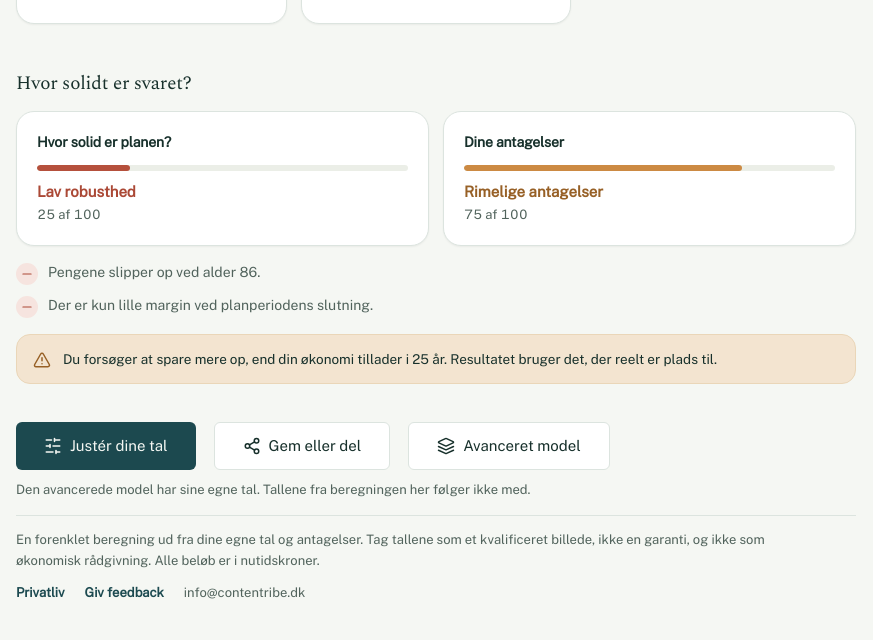
it: route-change focus management › /resultat -> /gem-og-del: focus lands on the SCREEN h1, not the print-summary h1
(page scrolled)
Click the link "Gem eller del" at (302, 446), box [214, 422, 390, 470]
(page scrolled)
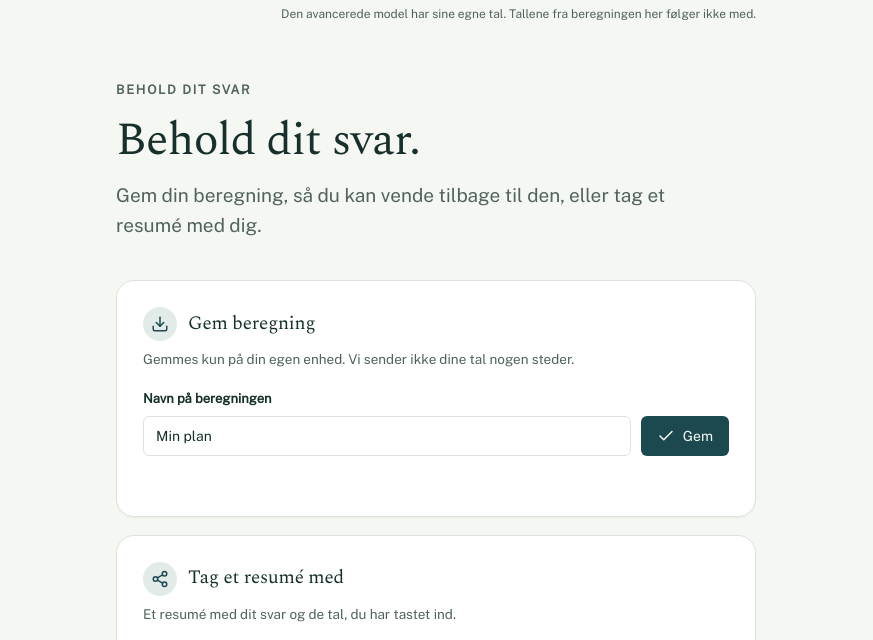
expect the heading "Behold dit svar." is shown: met, box [116, 105, 420, 175]
